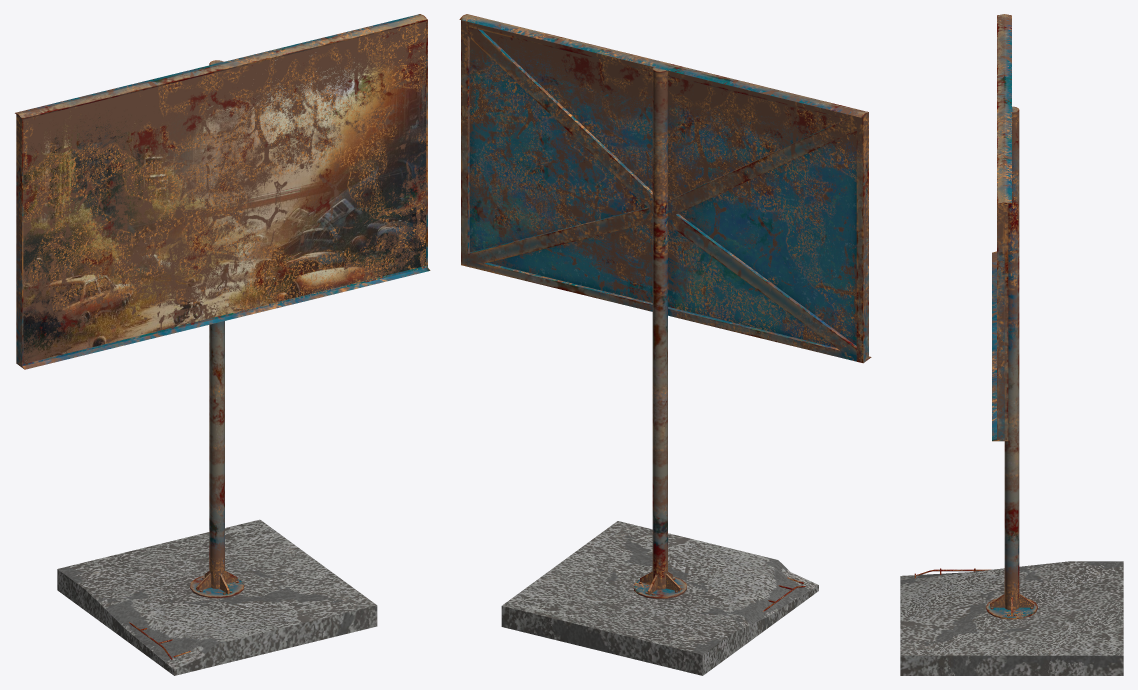
Rendered from billboard.fbx.
3 renders of one model, left to right at view 1: azimuth 30°, elevation 25°; view 2: azimuth 150°, elevation 25°; view 3: azimuth 270°, elevation 25°, orthographic. The views are drawn at different scales.
Visible parts, largest first — view 1: Box003; view 2: Box003; view 3: Box003.
Part boxes in pixels (bbox=[...]): Box003: bbox=[15, 14, 430, 675]; Box003: bbox=[459, 14, 871, 675]; Box003: bbox=[900, 14, 1123, 675].
Size of the model in its own units: 233 by 300 by 117.
Materials: 1 (1 with a texture image).
